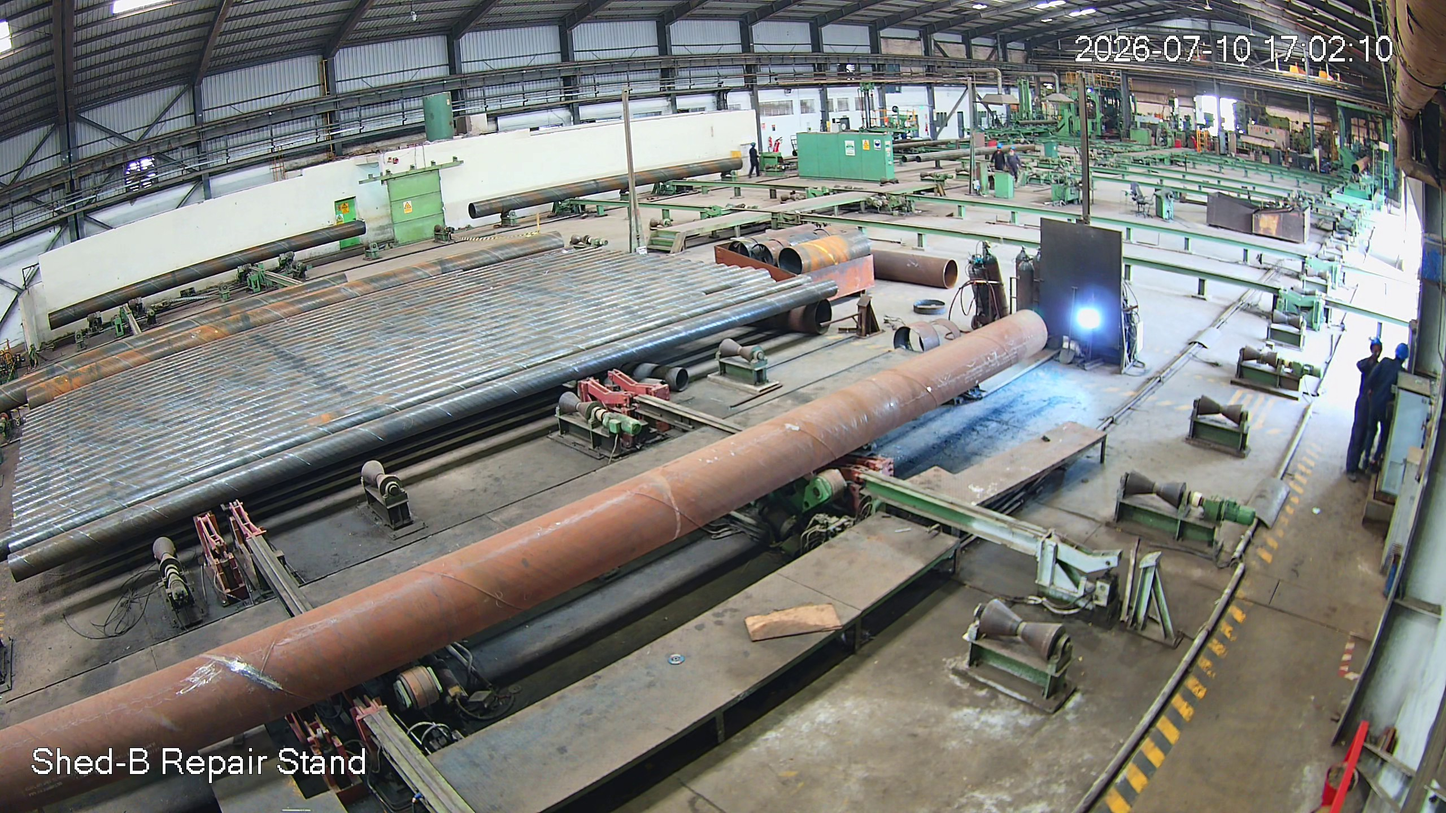Helmet: (1389, 342, 1411, 365)
Person: (1357, 344, 1414, 484)
